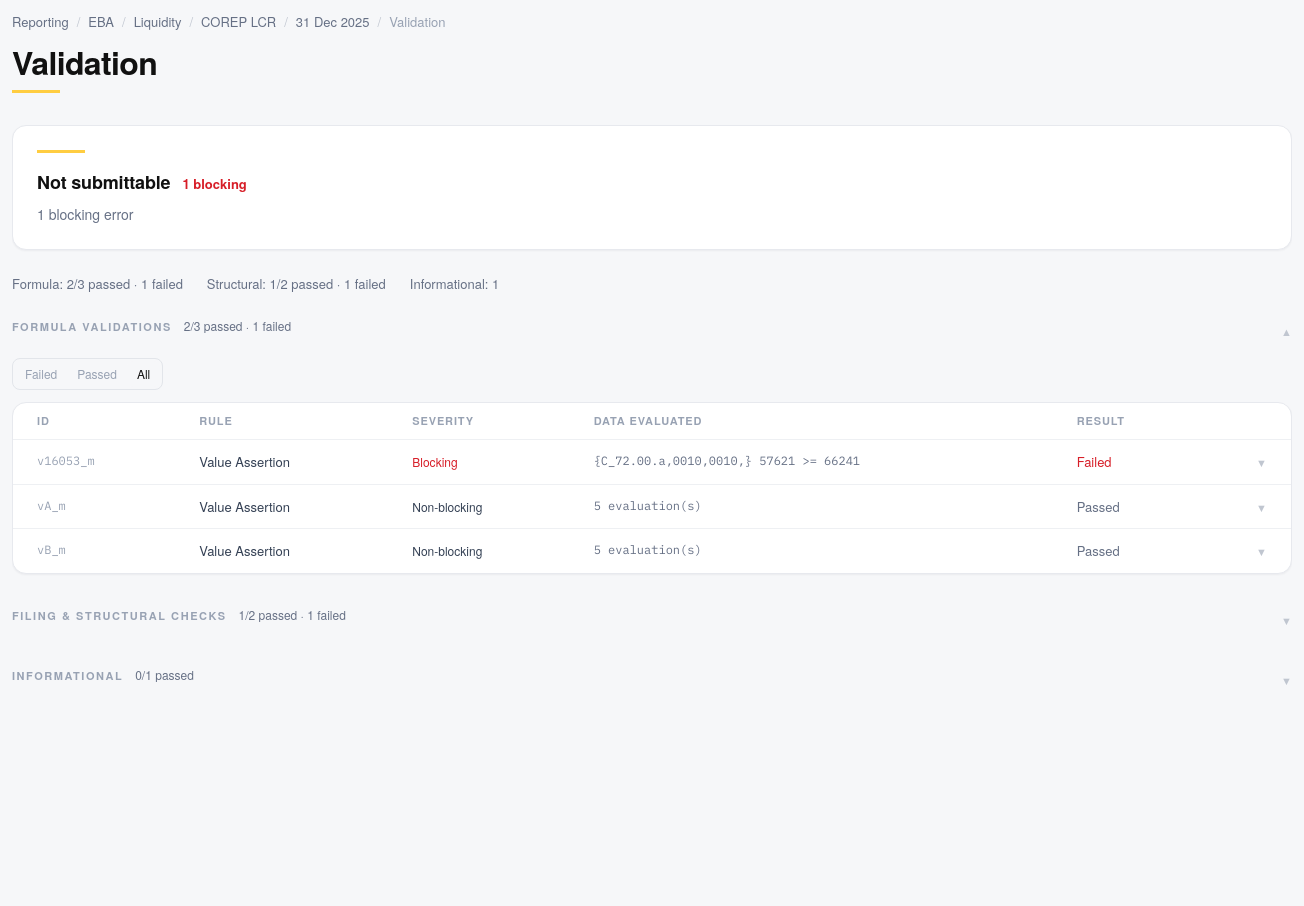
Scenario: RunValidation — sections by family › shows a severity badge (blocking) and expands a formula row to the comparison
Expected: the text "Blocking" is shown, [412, 453, 458, 470]
// Expand the failed formula row → the evaluated comparison from Arelle.
Click the text "v16053_m": (94, 462) [13, 440, 175, 484]
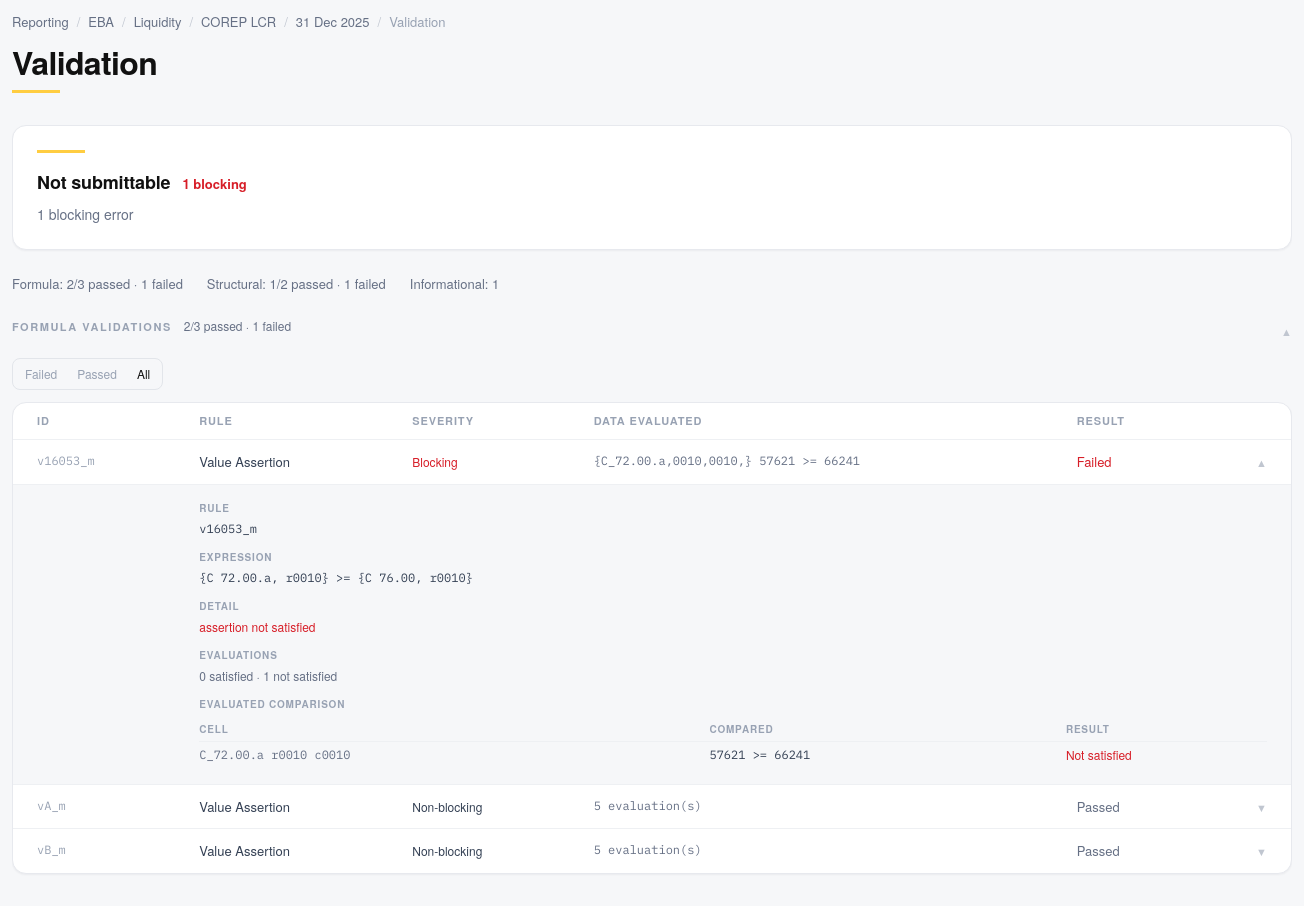
Result: the text "Evaluated comparison" is shown at [199, 696, 345, 710]
Result: the text "57621 >= 66241" is shown at [709, 741, 1066, 768]
